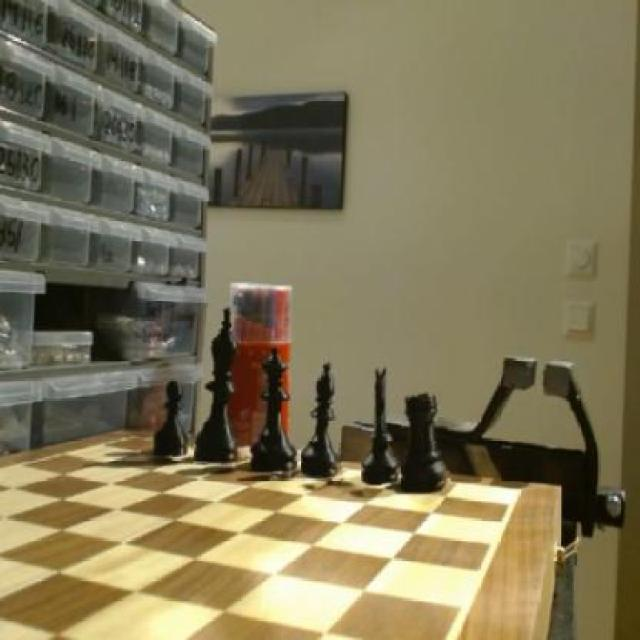bishop: (298, 357, 346, 479)
black-bishop: (195, 305, 250, 467)
black-king: (362, 362, 402, 486)
black-knight: (150, 374, 196, 464)
black-pawn: (248, 346, 300, 482)
black-queen: (400, 388, 450, 494)
